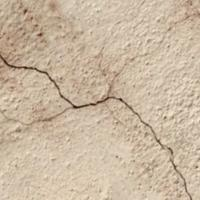crack: (1, 46, 192, 195)
